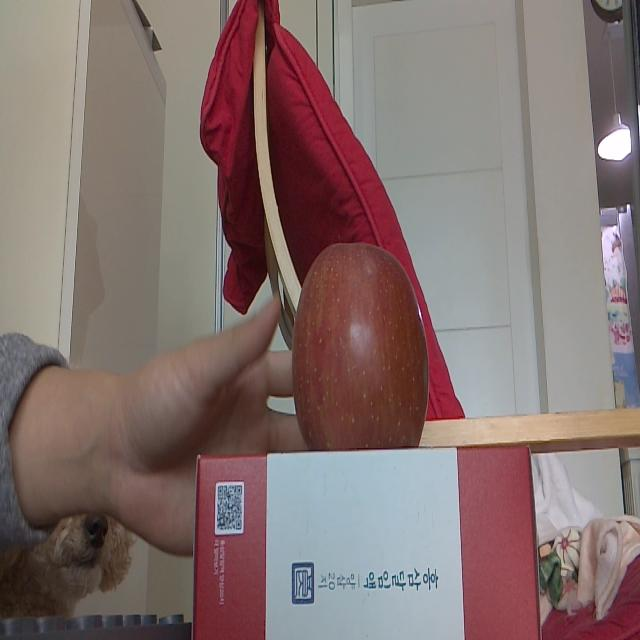apple: (290, 239, 430, 454)
